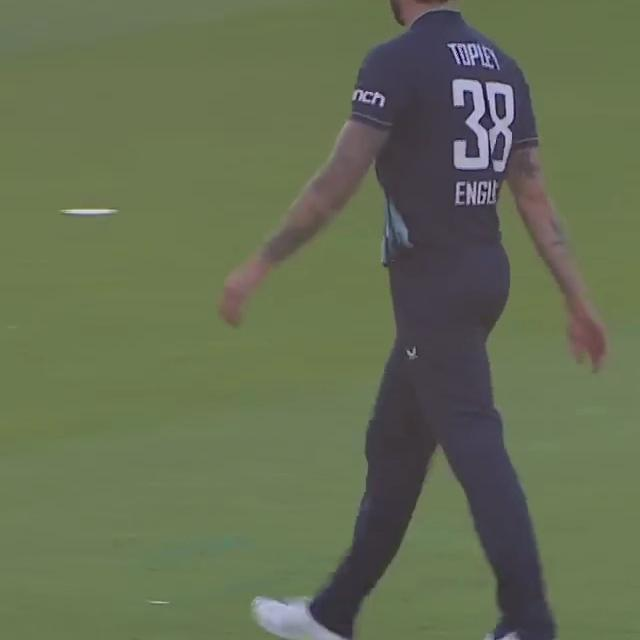person: (211, 0, 623, 640)
